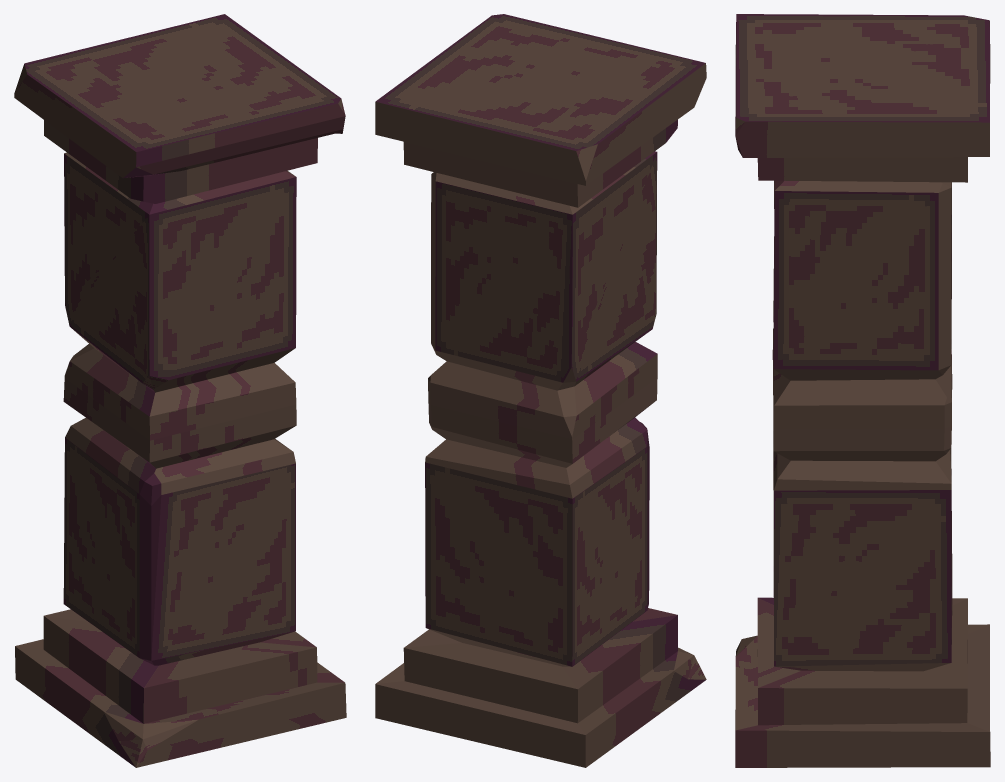
The model's file is pillar.fbx.
The picture shows the model from 3 angles, left to right: view 1: azimuth 30°, elevation 25°; view 2: azimuth 150°, elevation 25°; view 3: azimuth 270°, elevation 25°; orthographic projection. The views are drawn at different scales.
Parts seen in each view (by area): view 1: Pillar.002; view 2: Pillar.002; view 3: Pillar.002.
Boxes of the visible parts, x1,y1,x2,y2 form: Pillar.002: (14,14,346,767); Pillar.002: (375,14,706,767); Pillar.002: (735,14,990,767).
Size of the model in its own units: 251 by 702 by 251.
1 material, 1 textured.
